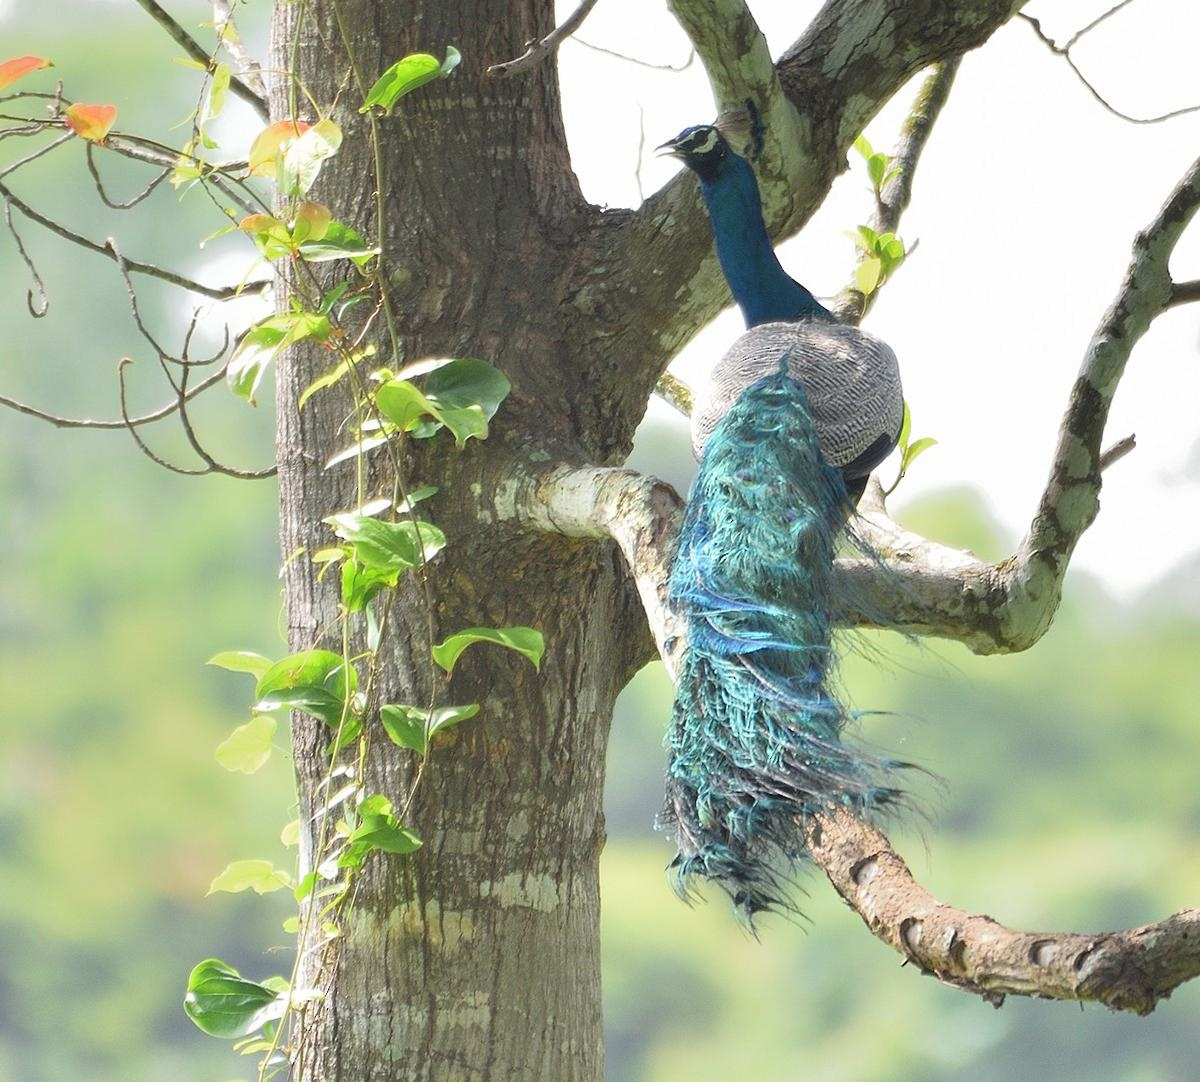peacock: (640, 123, 922, 925)
